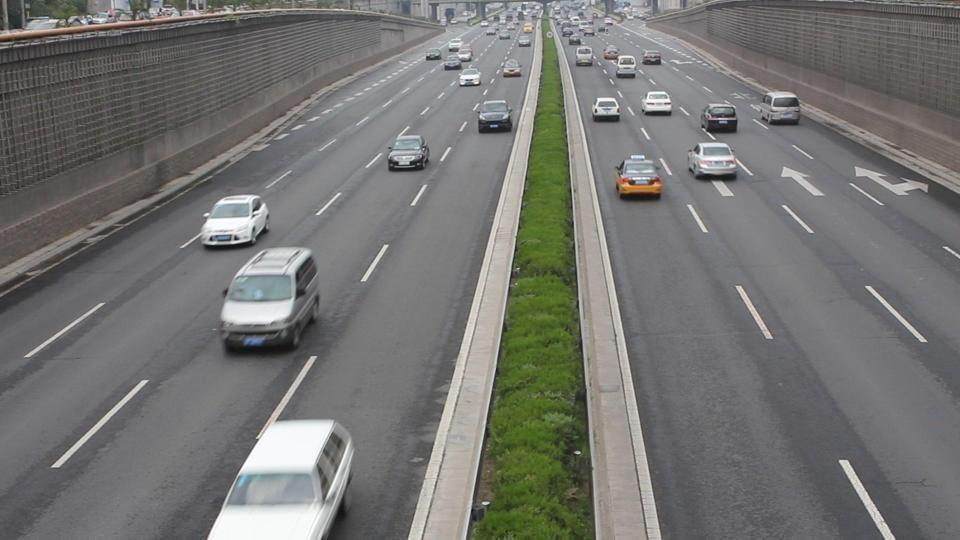car: (207, 417, 356, 539), (219, 246, 321, 352), (200, 194, 270, 248), (615, 156, 664, 200), (685, 141, 740, 180), (751, 89, 801, 126), (387, 135, 430, 170), (476, 99, 513, 132), (701, 102, 739, 133), (642, 90, 672, 117), (591, 97, 621, 123), (615, 54, 638, 79), (458, 66, 482, 87), (575, 46, 595, 66), (501, 60, 522, 78), (642, 51, 662, 65), (517, 31, 532, 47)
